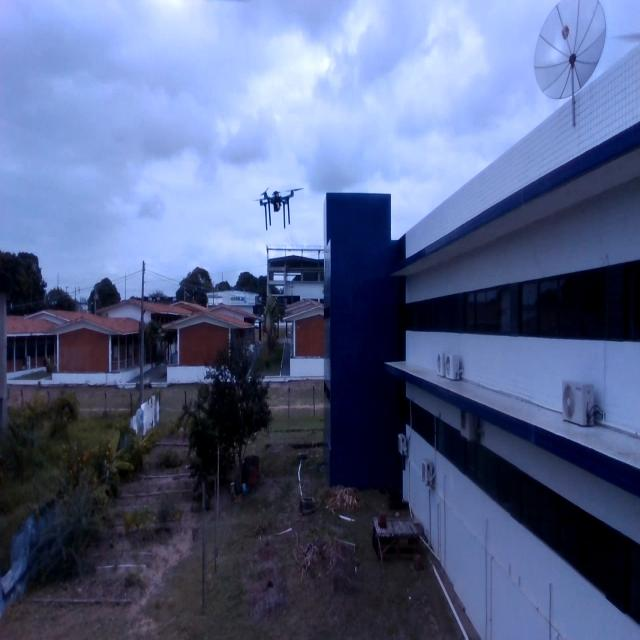-uav-: (252, 178, 306, 235)
